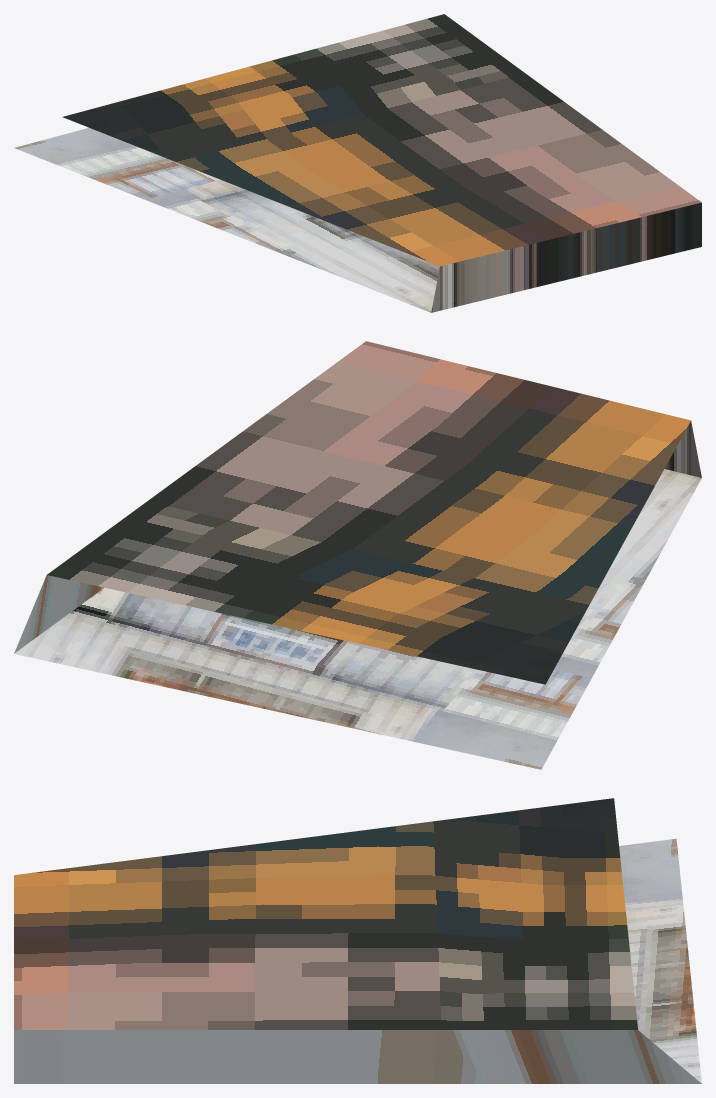
Rendered from 057_lowrise2Wall_cell_003.gltf.
3 renders of one model, top to bottom at view 1: azimuth 30°, elevation 25°; view 2: azimuth 150°, elevation 25°; view 3: azimuth 270°, elevation 25°, orthographic. The views are drawn at different scales.
Visible parts, largest first — view 1: lowrise2Wall_cell_003; view 2: lowrise2Wall_cell_003; view 3: lowrise2Wall_cell_003.
Boxes of the visible parts, x1,y1,x2,y2 form: lowrise2Wall_cell_003: (14,14,701,312); lowrise2Wall_cell_003: (14,341,701,769); lowrise2Wall_cell_003: (14,798,701,1083).
Size of the model in its own units: 3.6 by 0.3682 by 4.27.
Materials: 1 (1 with a texture image).
